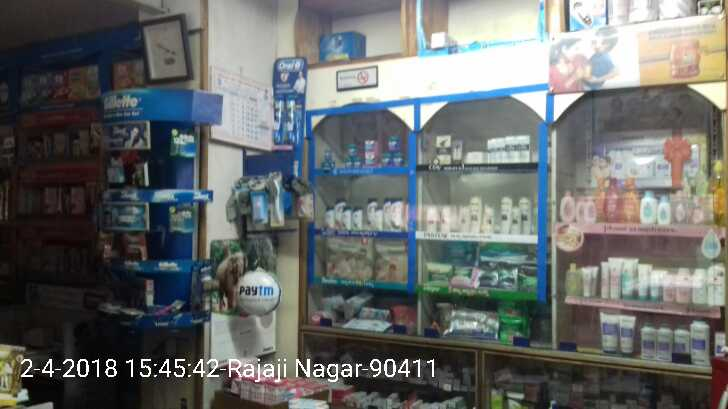oralcare: (272, 55, 307, 145)
vicks: (322, 133, 406, 175)
